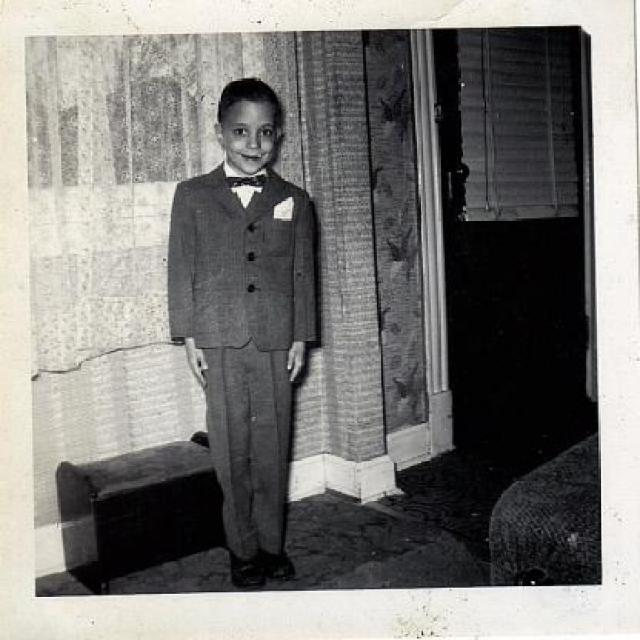Person: (170, 77, 319, 588)
